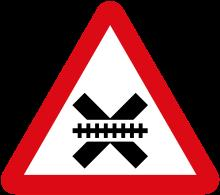Barrier Ahead: (10, 13, 212, 189)
